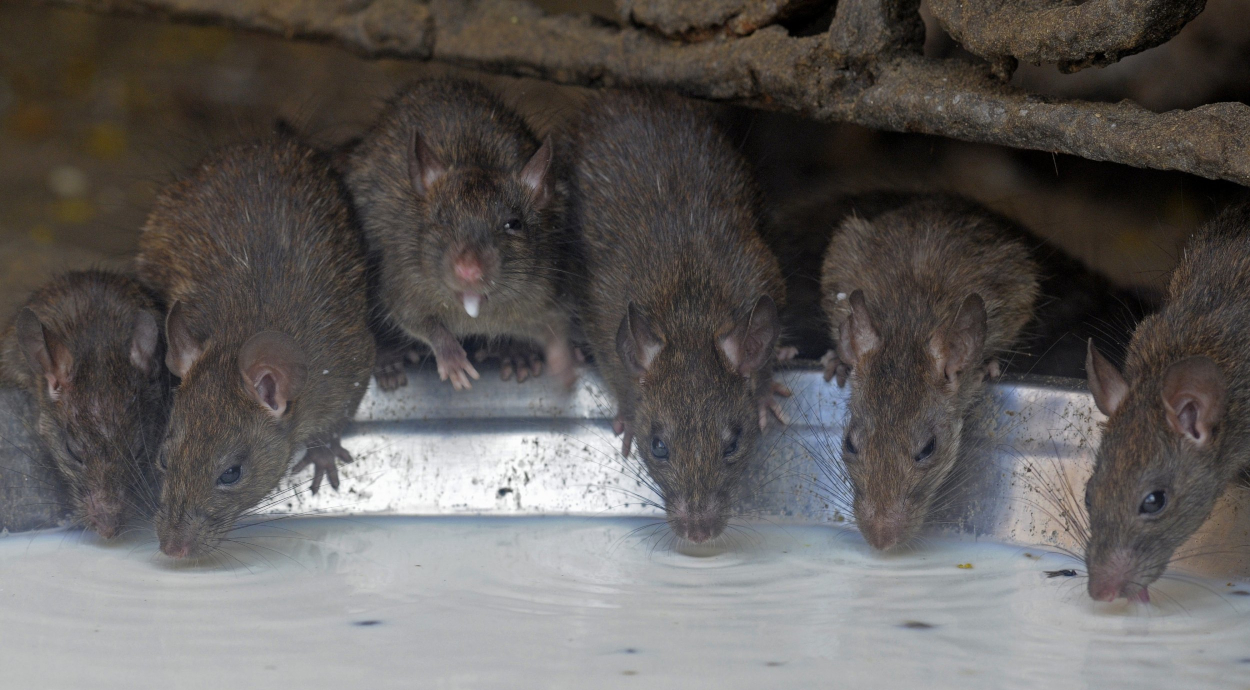rat: (543, 83, 799, 544), (142, 165, 382, 566), (803, 190, 1058, 561), (325, 69, 592, 393), (1067, 193, 1250, 623), (6, 246, 153, 558)
